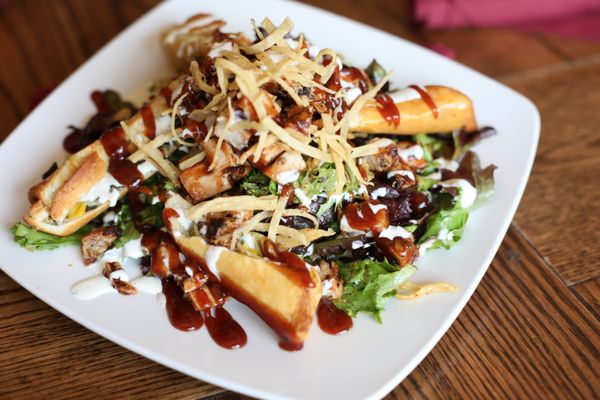sushi: (19, 16, 541, 395)
